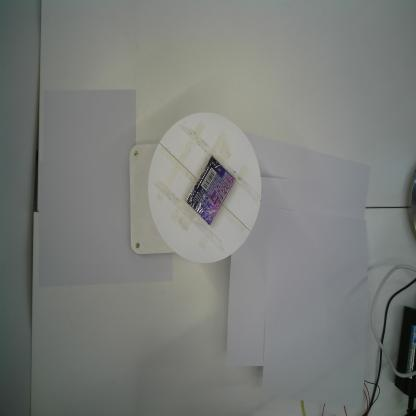Gum: (184, 154, 235, 228)
